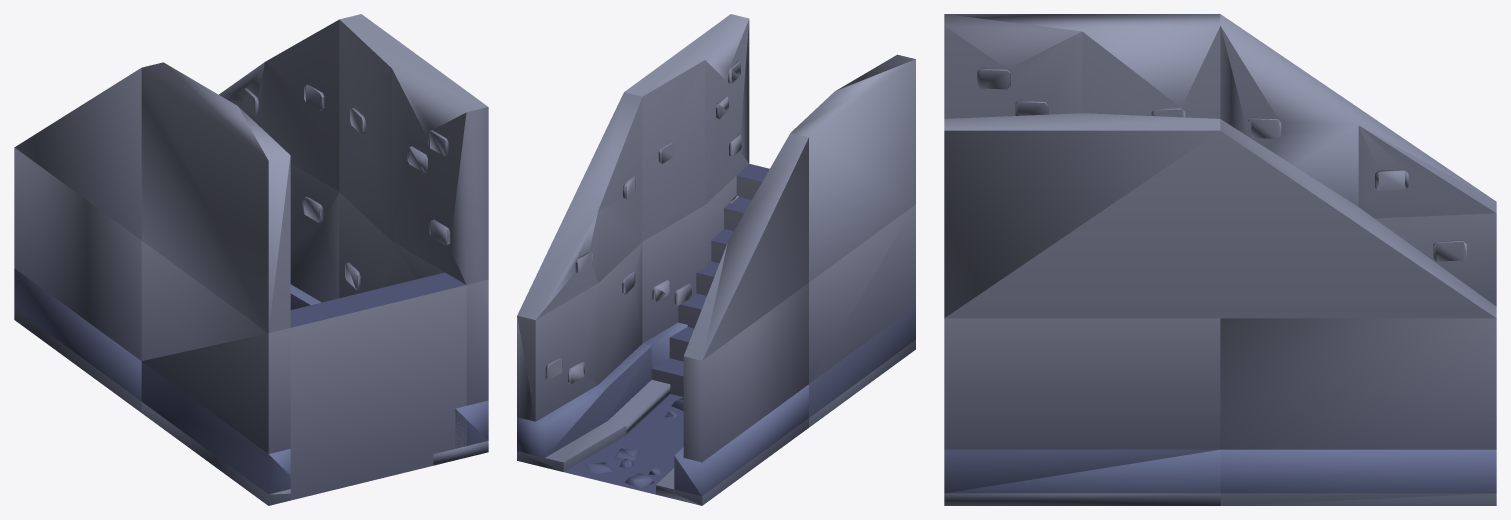
Rendered from stairs_lev2.glb.
3 renders of one model, left to right at view 1: azimuth 30°, elevation 25°; view 2: azimuth 150°, elevation 25°; view 3: azimuth 270°, elevation 25°, orthographic. The views are drawn at different scales.
Parts seen in each view (by area): view 1: stairs_lev2; view 2: stairs_lev2; view 3: stairs_lev2.
Part boxes in pixels (box(x1,y1,x2,y2)): stairs_lev2: box(14, 14, 488, 505); stairs_lev2: box(517, 14, 915, 505); stairs_lev2: box(944, 14, 1496, 505).
Size of the model in its own units: 4 by 6 by 8.
Materials: 1 (1 with a texture image).
